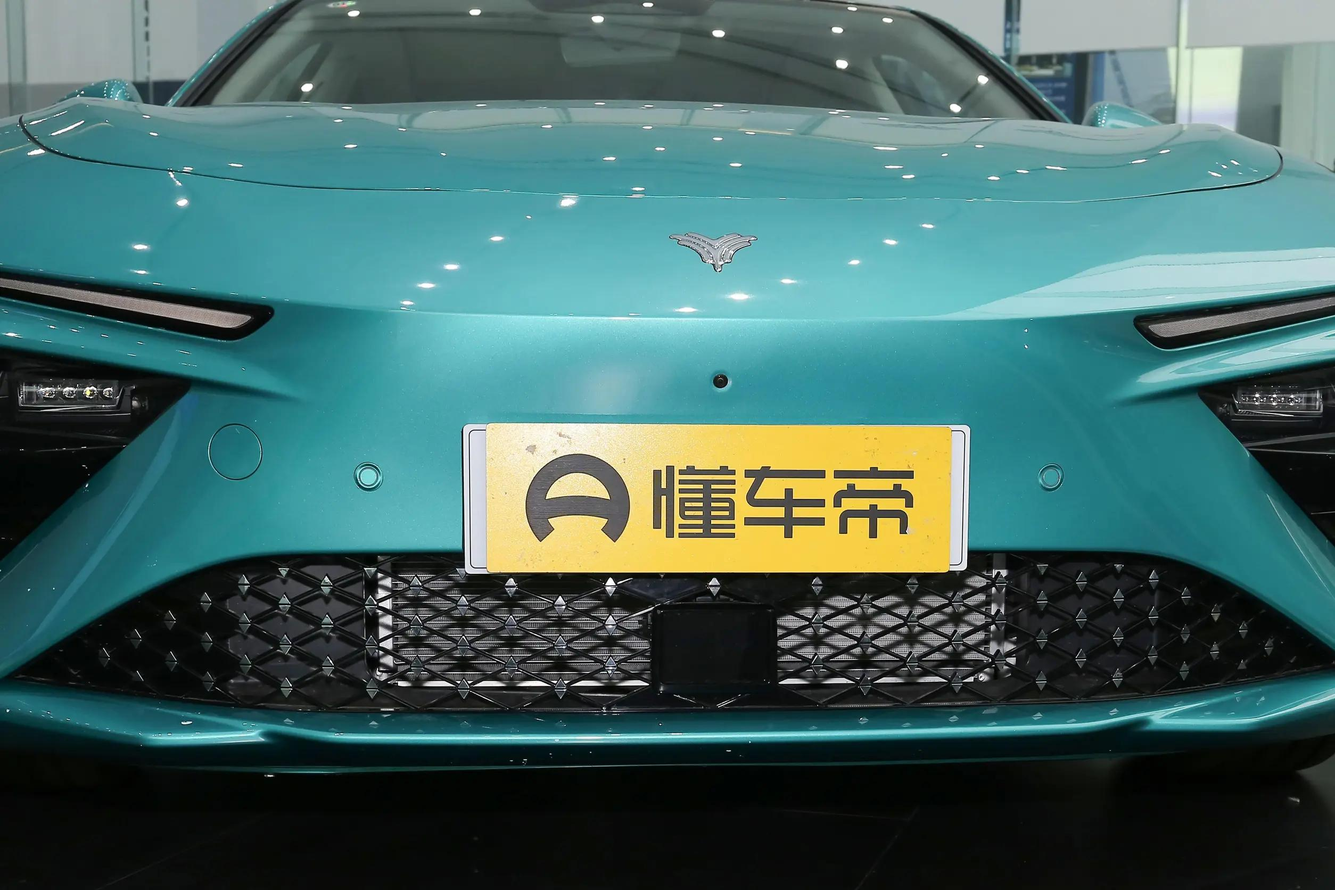NETA: (668, 230, 759, 273)
